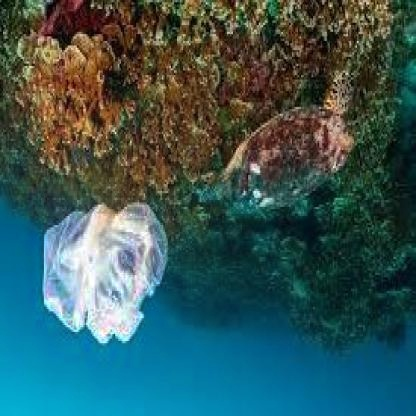pbag: (35, 200, 171, 352)
